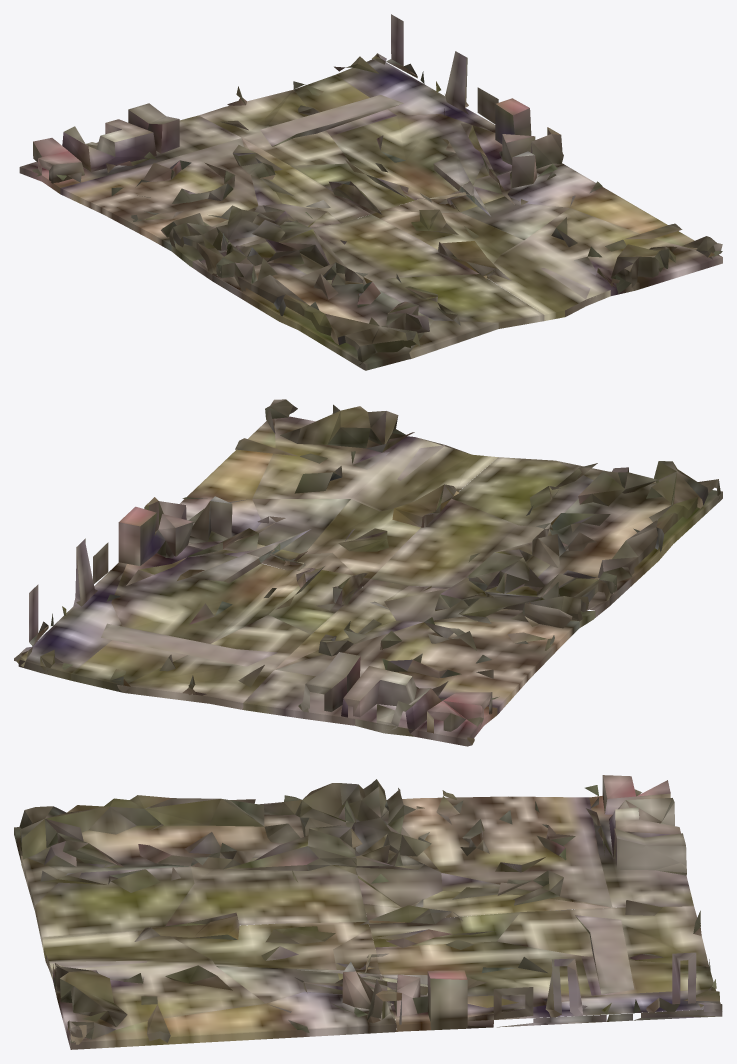
3 renders of one model, top to bottom at view 1: azimuth 30°, elevation 25°; view 2: azimuth 150°, elevation 25°; view 3: azimuth 270°, elevation 25°, orthographic. The views are drawn at different scales.
Visible parts, largest first — view 1: Mesh_0; view 2: Mesh_0; view 3: Mesh_0.
Part boxes in pixels (x1,y1,x2,y2): Mesh_0: (19,14,722,370); Mesh_0: (14,399,722,746); Mesh_0: (14,775,722,1049).
Size of the model in its own units: 540 by 74.23 by 659.
1 material, 1 textured.
